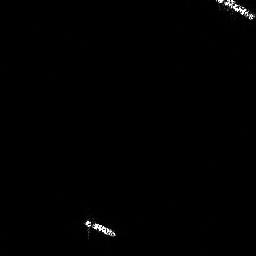ship: (81, 214, 120, 241), (211, 1, 256, 22)
